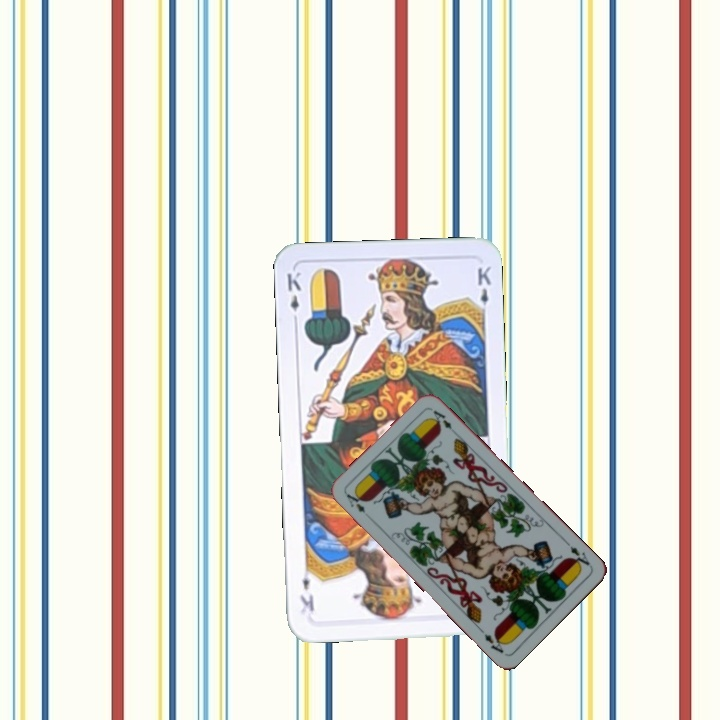EA: (566, 542, 594, 571), (342, 489, 368, 516)
EK: (283, 268, 304, 327)
